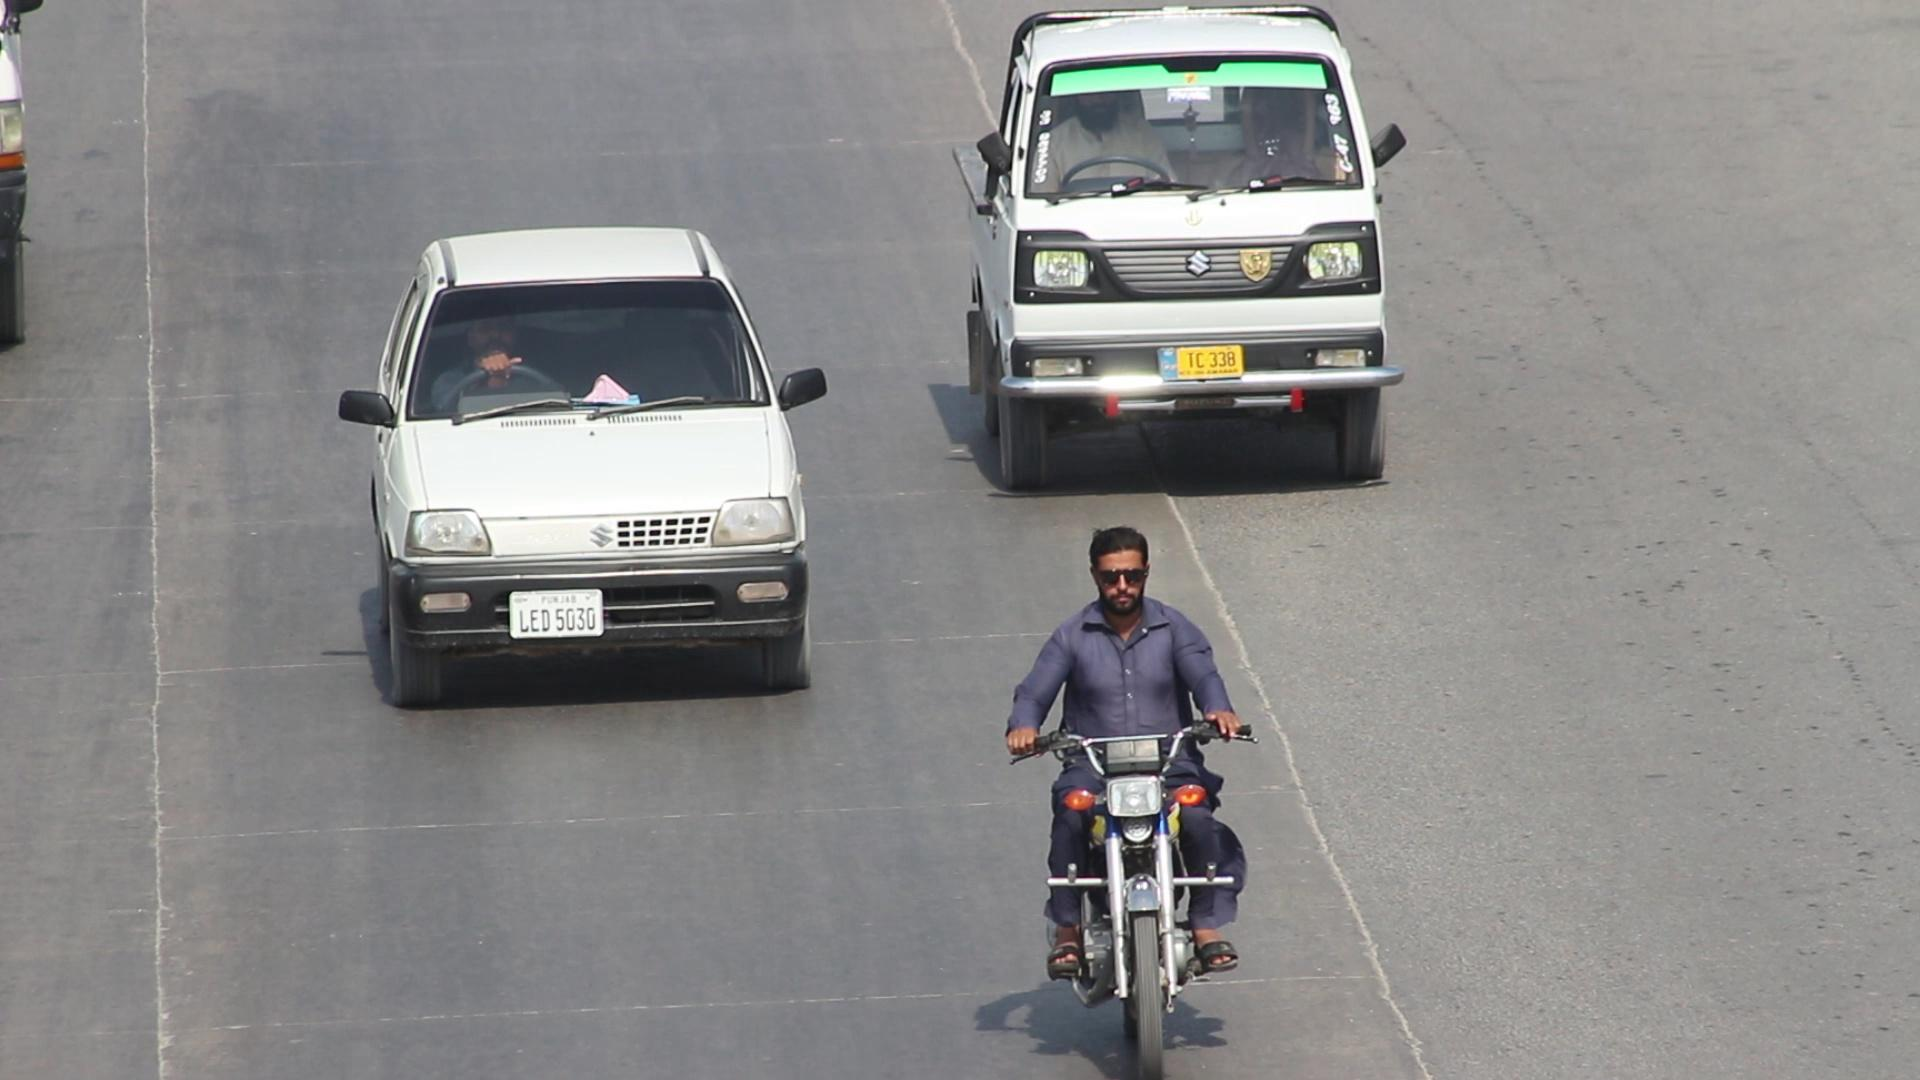windshield: (1021, 53, 1381, 214), (394, 284, 777, 423)
